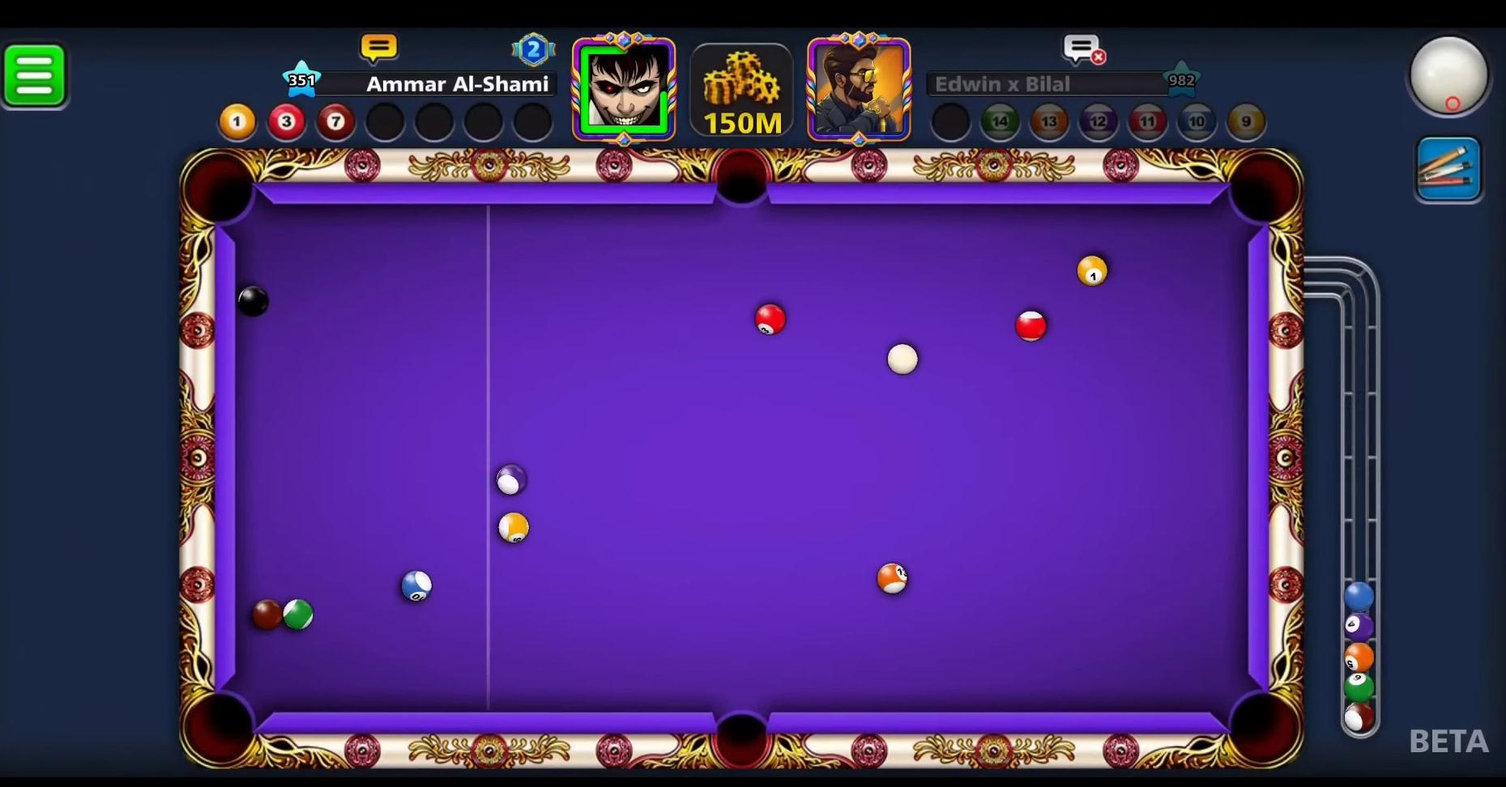Ball: (735, 300, 797, 343), (490, 502, 539, 553), (393, 564, 442, 613), (225, 282, 279, 322), (276, 592, 321, 638), (243, 591, 288, 636), (488, 459, 536, 500), (872, 555, 913, 601), (1072, 253, 1116, 290), (1013, 308, 1051, 342)
Hole: (1214, 679, 1309, 776), (174, 141, 266, 233), (173, 687, 267, 772), (1222, 140, 1303, 234), (698, 141, 782, 220), (703, 696, 782, 778)
Play_Area: (234, 204, 1246, 717)
Spin: (1402, 26, 1504, 134)
White: (879, 336, 926, 381)
